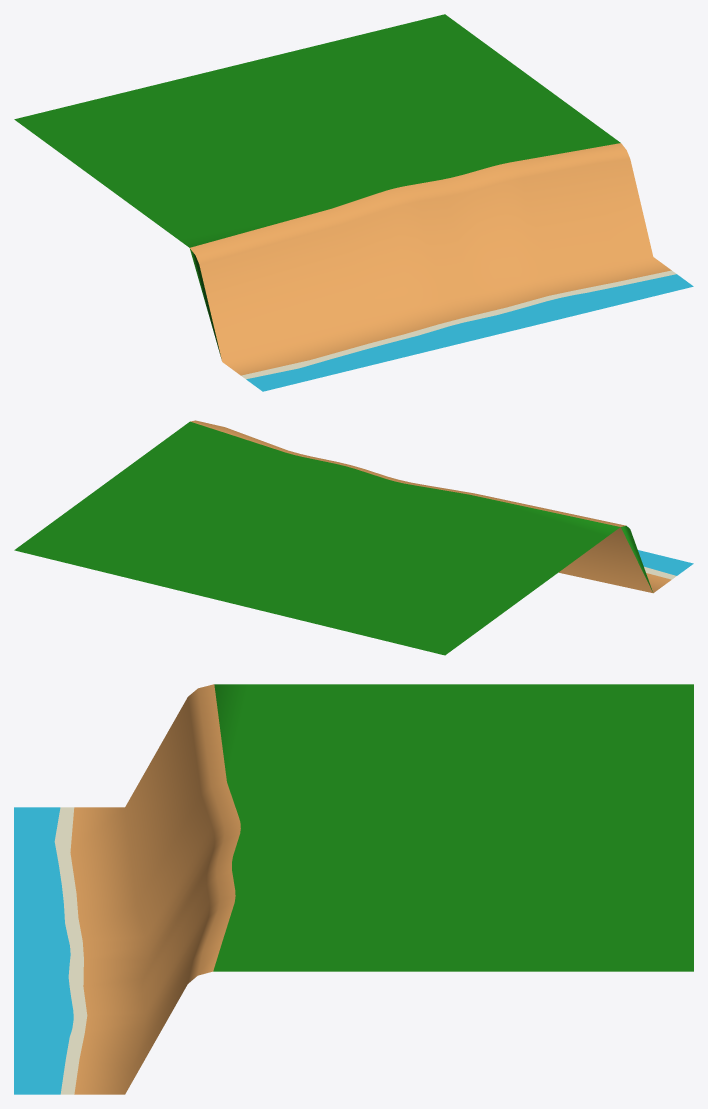
The model's file is Beach-3.fbx.
3 renders of one model, top to bottom at view 1: azimuth 30°, elevation 25°; view 2: azimuth 150°, elevation 25°; view 3: azimuth 270°, elevation 25°, orthographic. The views are drawn at different scales.
Visible parts, largest first — view 1: Beach-3_Terrain, Beach-3_Sand, Beach-3_Water, Beach-3_Seashore; view 2: Beach-3_Terrain, Beach-3_Sand, Beach-3_Water; view 3: Beach-3_Terrain, Beach-3_Sand, Beach-3_Water, Beach-3_Seashore.
Boxes of the visible parts, left/top/right/bottom form: Beach-3_Terrain: left=14, top=14, right=620, bottom=358; Beach-3_Sand: left=190, top=143, right=671, bottom=375; Beach-3_Water: left=246, top=274, right=693, bottom=391; Beach-3_Seashore: left=241, top=270, right=676, bottom=379; Beach-3_Terrain: left=14, top=421, right=652, bottom=655; Beach-3_Sand: left=190, top=420, right=671, bottom=593; Beach-3_Water: left=638, top=550, right=693, bottom=575; Beach-3_Terrain: left=213, top=684, right=693, bottom=971; Beach-3_Sand: left=70, top=684, right=240, bottom=1094; Beach-3_Water: left=14, top=807, right=73, bottom=1094; Beach-3_Seashore: left=54, top=807, right=87, bottom=1094.
Bounding box in the file's own units: 20 × 4 × 20.
